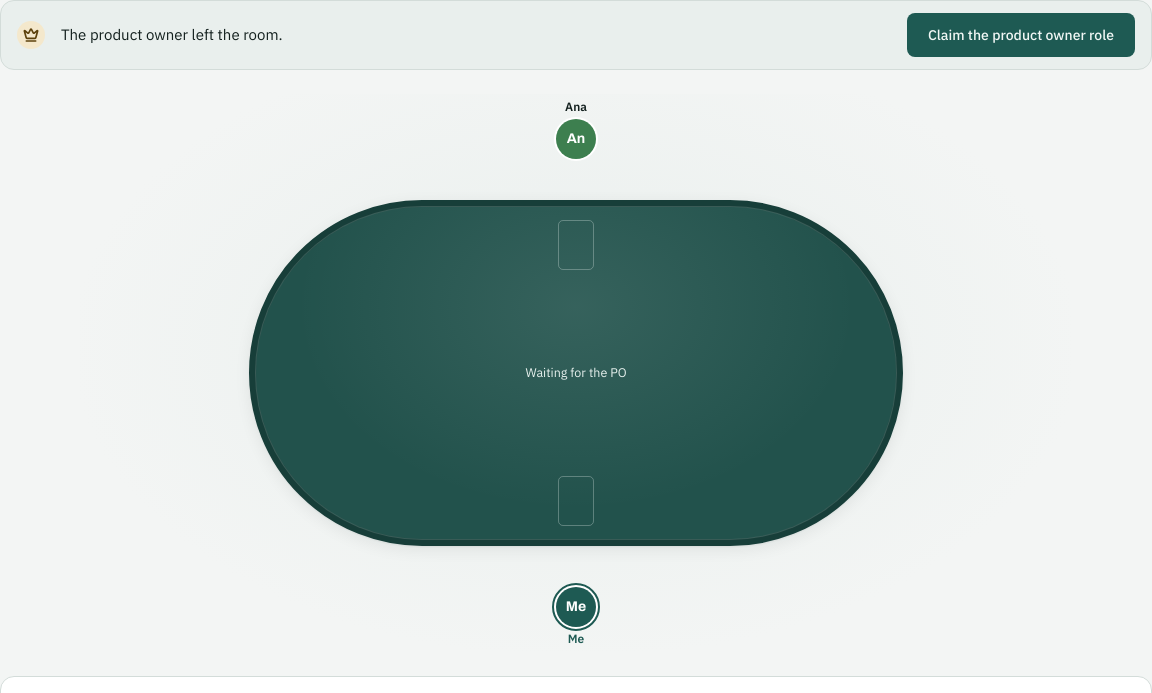
Scenario: the claim banner › says nothing when someone else claimed first
What coordinates should you click on to do the following:
click the button "Claim the product owner role"
I would click on:
 (1021, 35)
Its box is [907,13,1135,57].
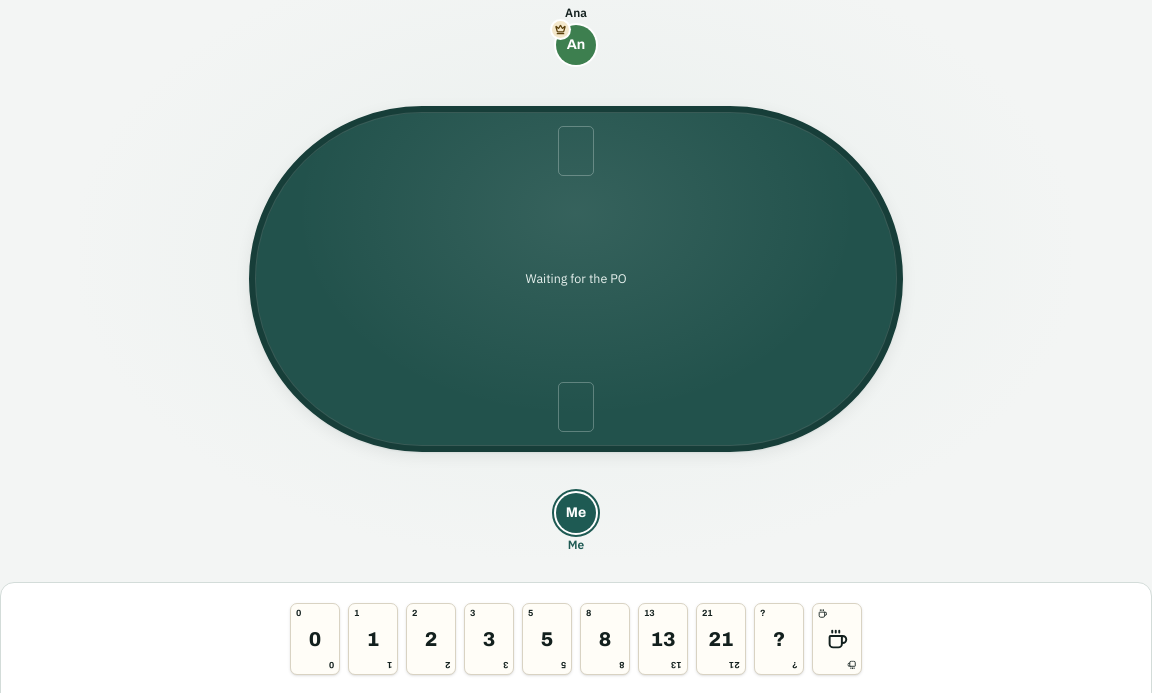
expect the button "Claim the product owner role" is gone: met
expect the message "The product owner left the room." is gone: met
